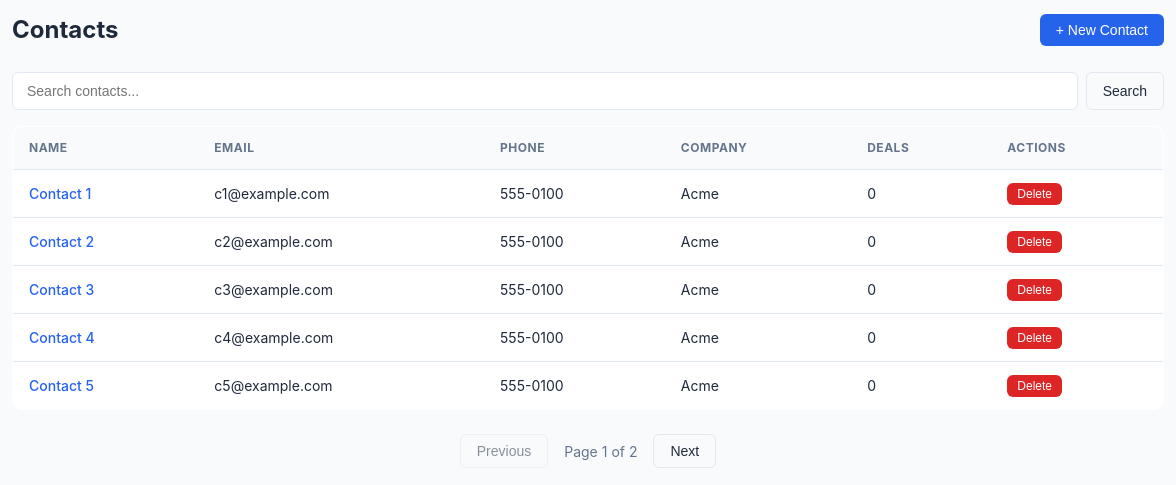
it: ContactList pagination › disables Next button on last page (25 contacts, page 2)
Expected: the text "Page 1 of 2" is shown, [564,440,637,462]
Click the button "Next". click: (685, 451)
box: [653,434,716,468]
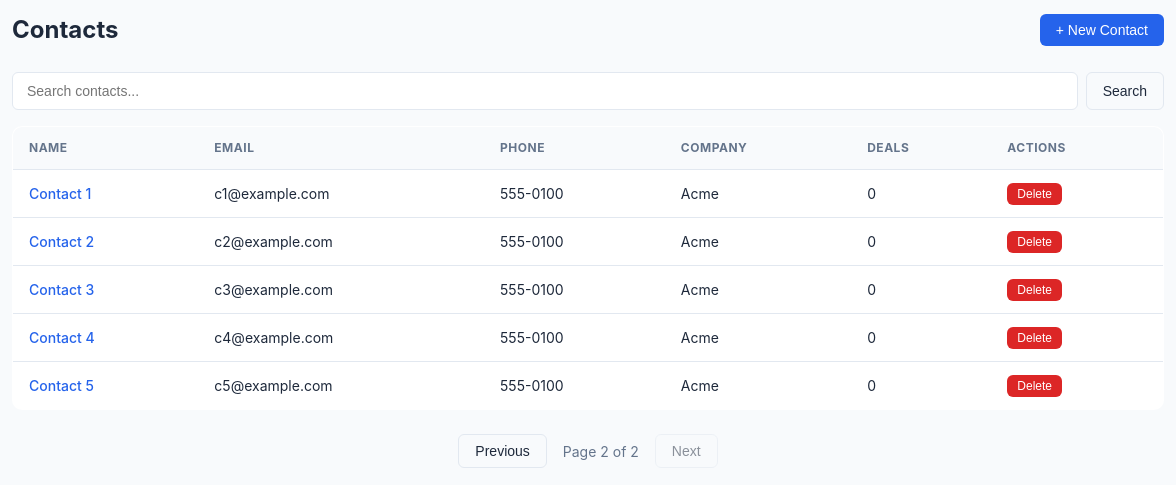
Result: the text "Page 2 of 2" is shown at [563,440,639,462]
Result: the button "Next" is disabled at [655,434,718,468]
